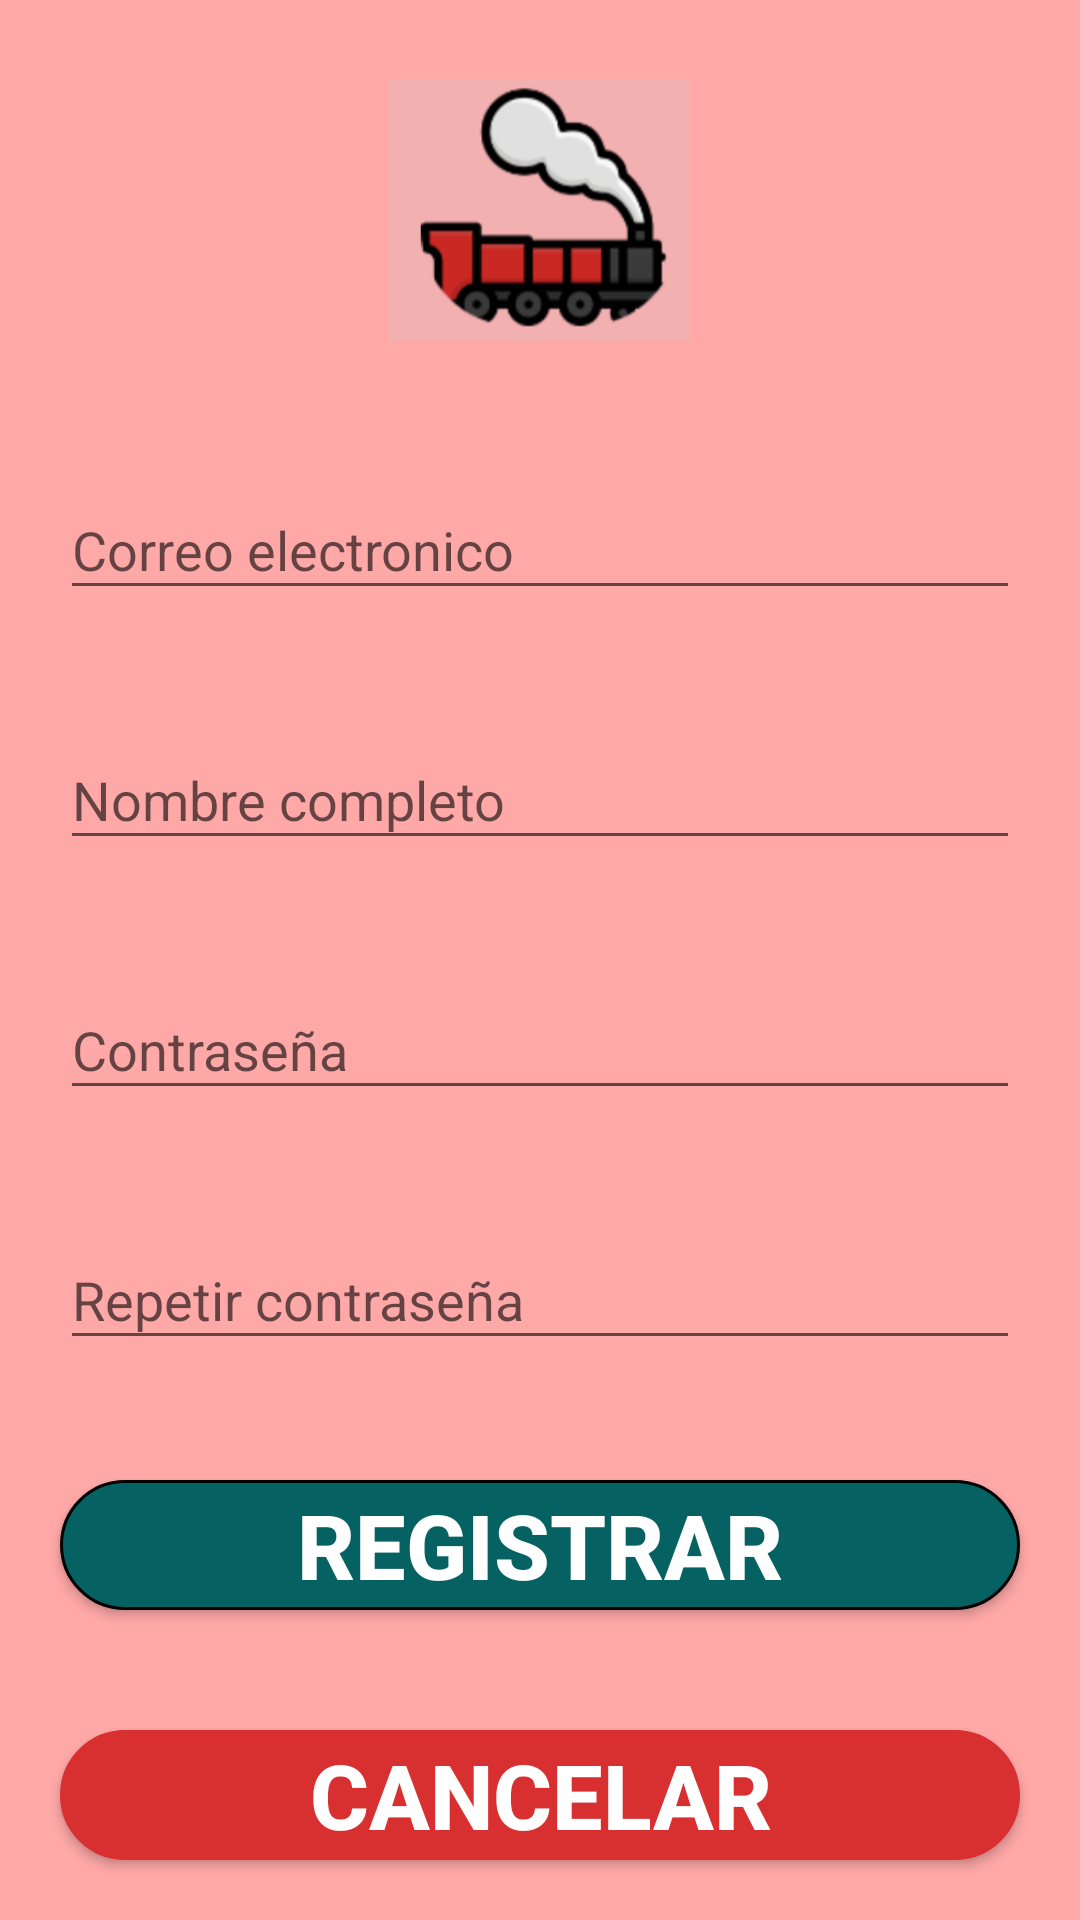

Point at icon controls on the screen. Image size 1080x1920, points as (x=x, y=y).
tren: (x=543, y=207)
